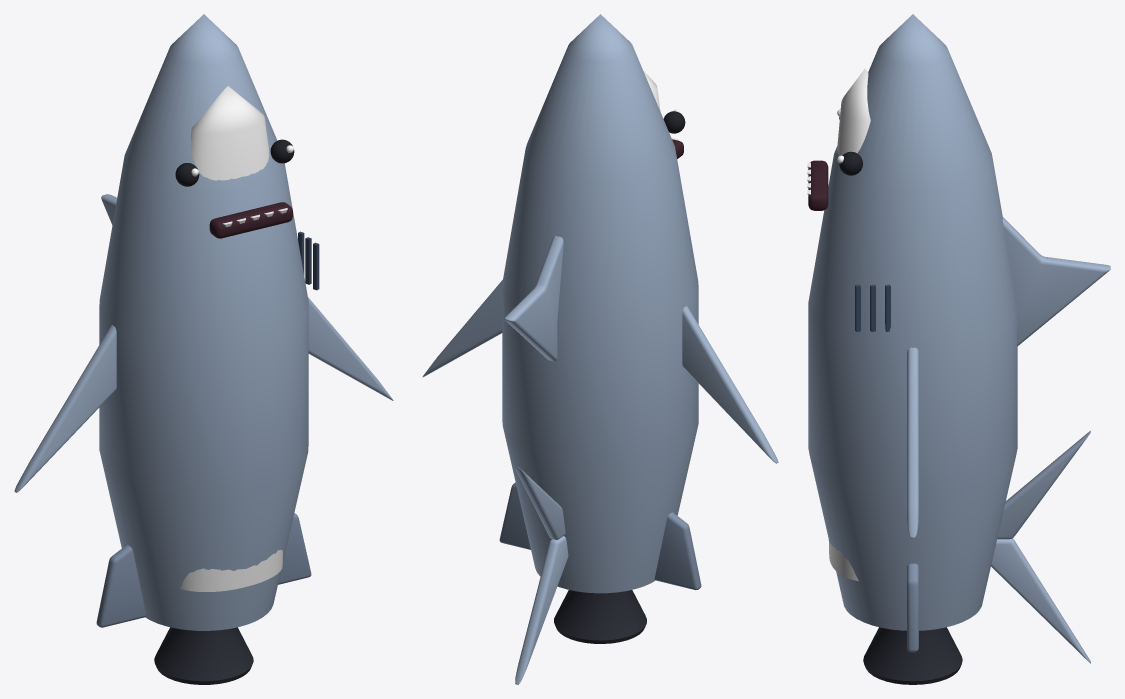
Rendered from Rocket_33_Shark.fbx.
3 renders of one model, left to right at view 1: azimuth 30°, elevation 25°; view 2: azimuth 150°, elevation 25°; view 3: azimuth 270°, elevation 25°, orthographic. The views are drawn at different scales.
Visible parts, largest first — view 1: R33_Body, R33_Belly, R33_Nozzle, R33_Pectoral_2, R33_Fin_2, R33_Pectoral, R33_Mouth, R33_Fin; view 2: R33_Body, R33_Nozzle, R33_Pectoral_2, R33_Dorsal, R33_Fin_2, R33_TailFluke, R33_Pectoral, R33_TailFluke_2, R33_Fin; view 3: R33_Body, R33_Dorsal, R33_Nozzle, R33_TailFluke, R33_Belly, R33_TailFluke_2, R33_Pectoral, R33_Fin, R33_Mouth.
Part boxes in pixels (<box>): R33_Body: <box>99,14,308,630</box>; R33_Belly: <box>180,86,282,591</box>; R33_Nozzle: <box>154,627,253,684</box>; R33_Pectoral_2: <box>14,325,116,492</box>; R33_Fin_2: <box>96,544,146,627</box>; R33_Pectoral: <box>308,297,393,400</box>; R33_Mouth: <box>209,202,292,238</box>; R33_Fin: <box>278,513,311,584</box>; R33_Body: <box>502,14,698,593</box>; R33_Nozzle: <box>554,590,646,643</box>; R33_Pectoral_2: <box>682,306,778,463</box>; R33_Dorsal: <box>504,235,563,361</box>; R33_Fin_2: <box>654,512,701,590</box>; R33_TailFluke: <box>515,536,568,684</box>; R33_Pectoral: <box>422,280,502,377</box>; R33_TailFluke_2: <box>515,466,565,539</box>; R33_Fin: <box>499,482,530,549</box>; R33_Body: <box>808,14,1017,630</box>; R33_Dorsal: <box>1002,217,1110,346</box>; R33_Nozzle: <box>863,627,962,684</box>; R33_TailFluke: <box>991,538,1090,663</box>; R33_Belly: <box>828,68,870,580</box>; R33_TailFluke_2: <box>997,430,1090,539</box>; R33_Pectoral: <box>907,347,918,538</box>; R33_Fin: <box>907,563,918,652</box>; R33_Mouth: <box>808,160,828,210</box>.
Bounding box in the file's own units: 4.37 × 7.2 × 3.04.
